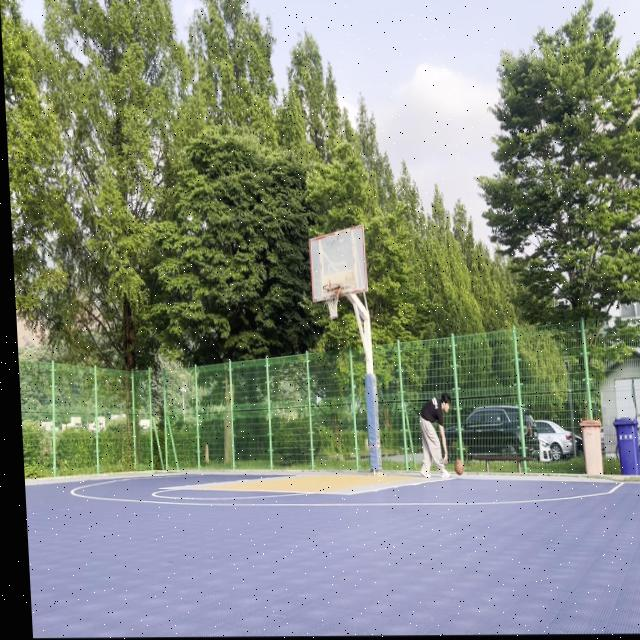basketball: (454, 459, 465, 476)
hoop: (322, 283, 342, 321)
